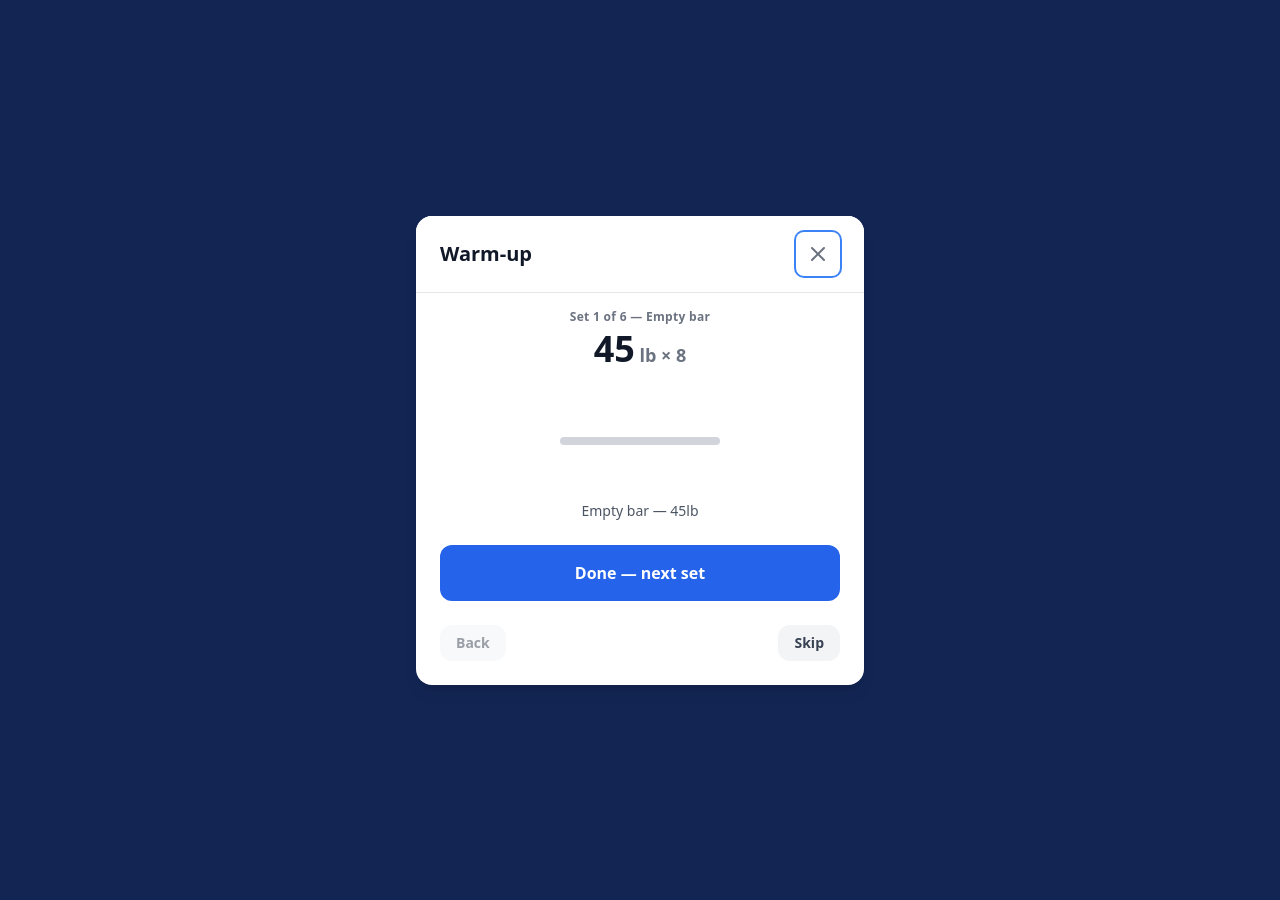
WarmupFlow › steps through sets, checking each one off
Click the button "Done — next set".
click(640, 572)  # box [440,544,840,600]
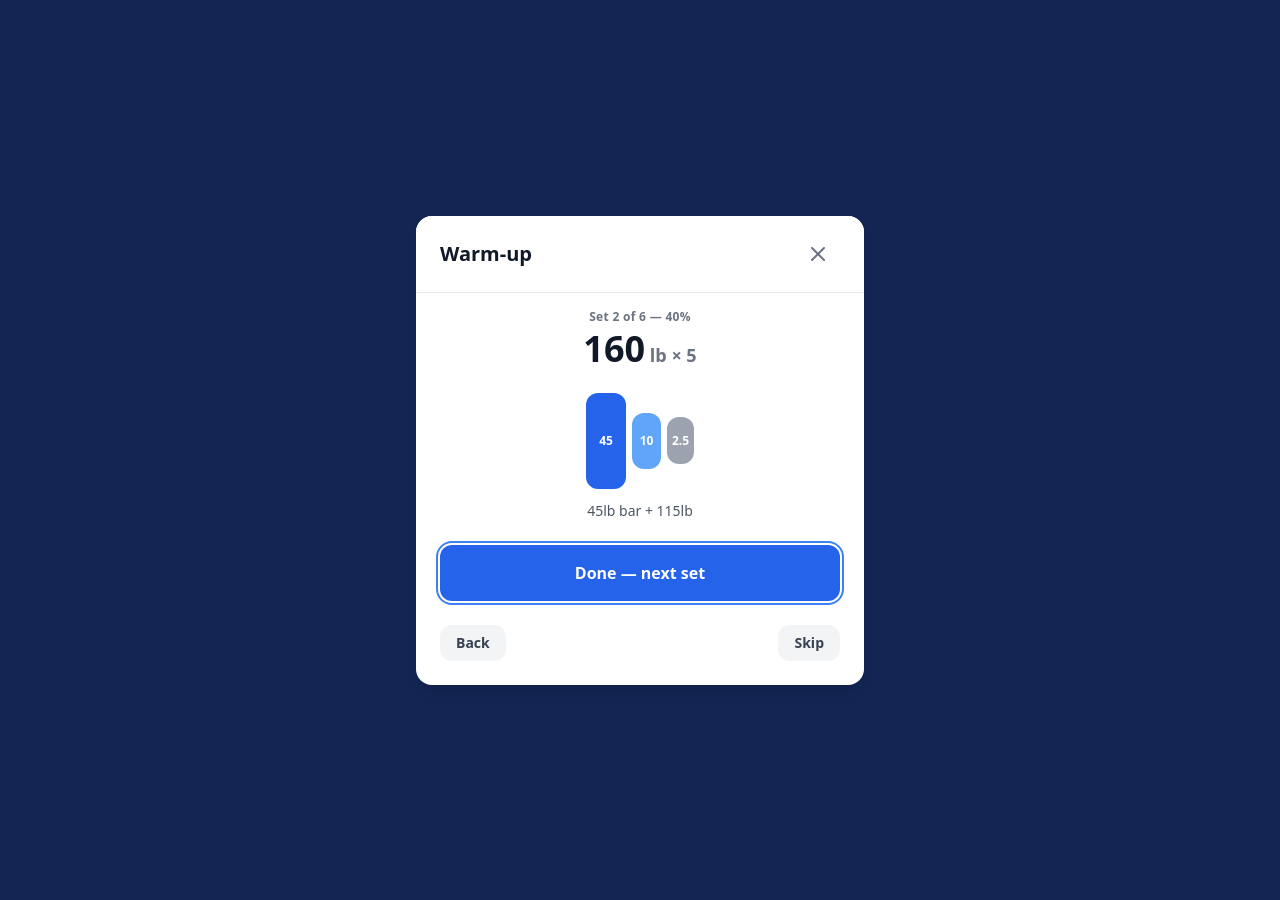
Now the text "Set 2 of 6 — 40%" is shown, box [589,308,691,324]
